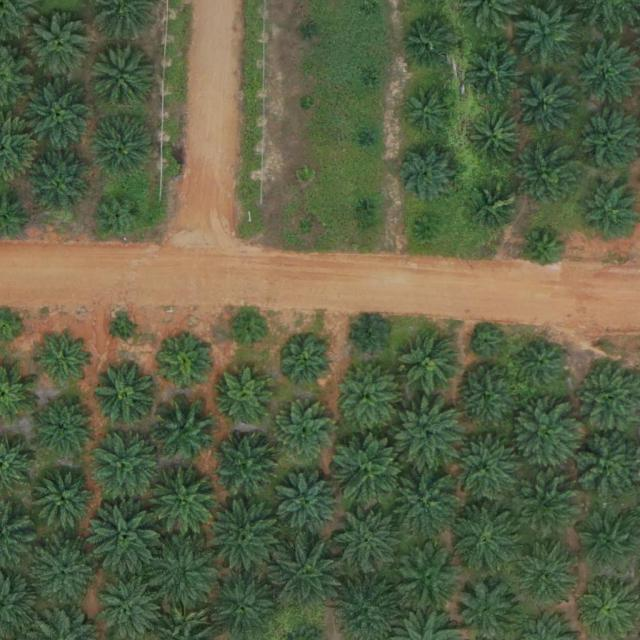Healthy: (85, 501, 163, 580), (143, 536, 221, 615), (203, 500, 281, 579), (269, 537, 347, 616), (332, 431, 410, 510), (384, 462, 462, 541), (449, 501, 527, 580), (447, 433, 525, 511), (24, 79, 95, 150), (149, 468, 220, 539), (392, 399, 463, 470), (91, 427, 161, 498), (212, 431, 282, 502), (274, 469, 344, 540), (393, 544, 463, 615), (511, 401, 581, 472), (511, 471, 581, 542), (392, 140, 462, 210), (331, 505, 401, 575), (515, 3, 578, 66), (32, 396, 95, 459), (399, 333, 462, 396), (464, 41, 526, 104), (518, 146, 580, 209), (577, 111, 639, 174), (90, 45, 152, 108), (29, 153, 91, 216), (34, 469, 96, 532), (32, 541, 94, 604), (154, 398, 217, 460), (272, 403, 334, 466), (337, 366, 399, 429), (455, 367, 517, 430), (577, 44, 639, 106), (93, 117, 155, 179), (31, 16, 93, 78), (95, 362, 157, 424), (402, 17, 457, 72), (470, 112, 525, 167), (36, 334, 91, 389), (219, 368, 274, 423), (281, 336, 336, 391), (519, 548, 574, 603), (520, 82, 574, 137), (160, 339, 214, 394), (474, 186, 521, 233), (519, 341, 566, 388)
Small: (404, 84, 459, 140), (97, 193, 144, 240), (350, 317, 390, 357), (523, 231, 563, 270), (232, 313, 271, 352), (473, 328, 504, 359), (417, 216, 441, 240), (114, 318, 137, 342), (361, 76, 377, 92), (302, 24, 318, 40), (299, 220, 315, 236), (357, 200, 373, 216), (297, 168, 313, 183), (365, 4, 380, 19), (300, 98, 315, 113), (362, 132, 377, 147)
